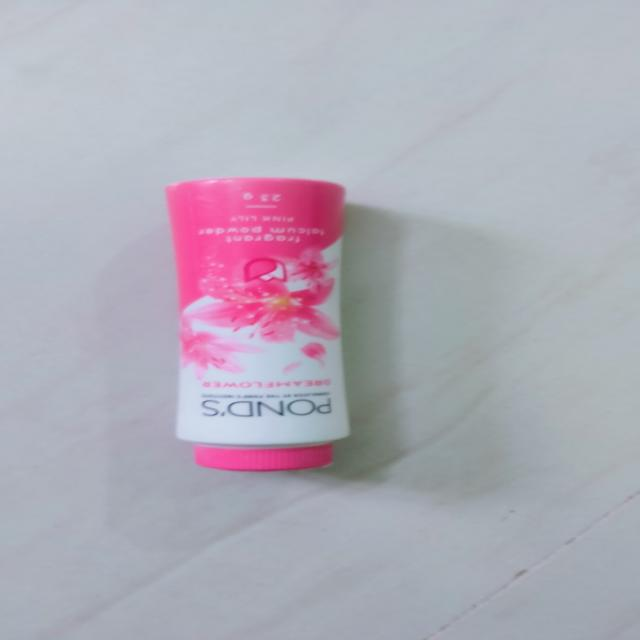powder: (142, 177, 384, 473)
